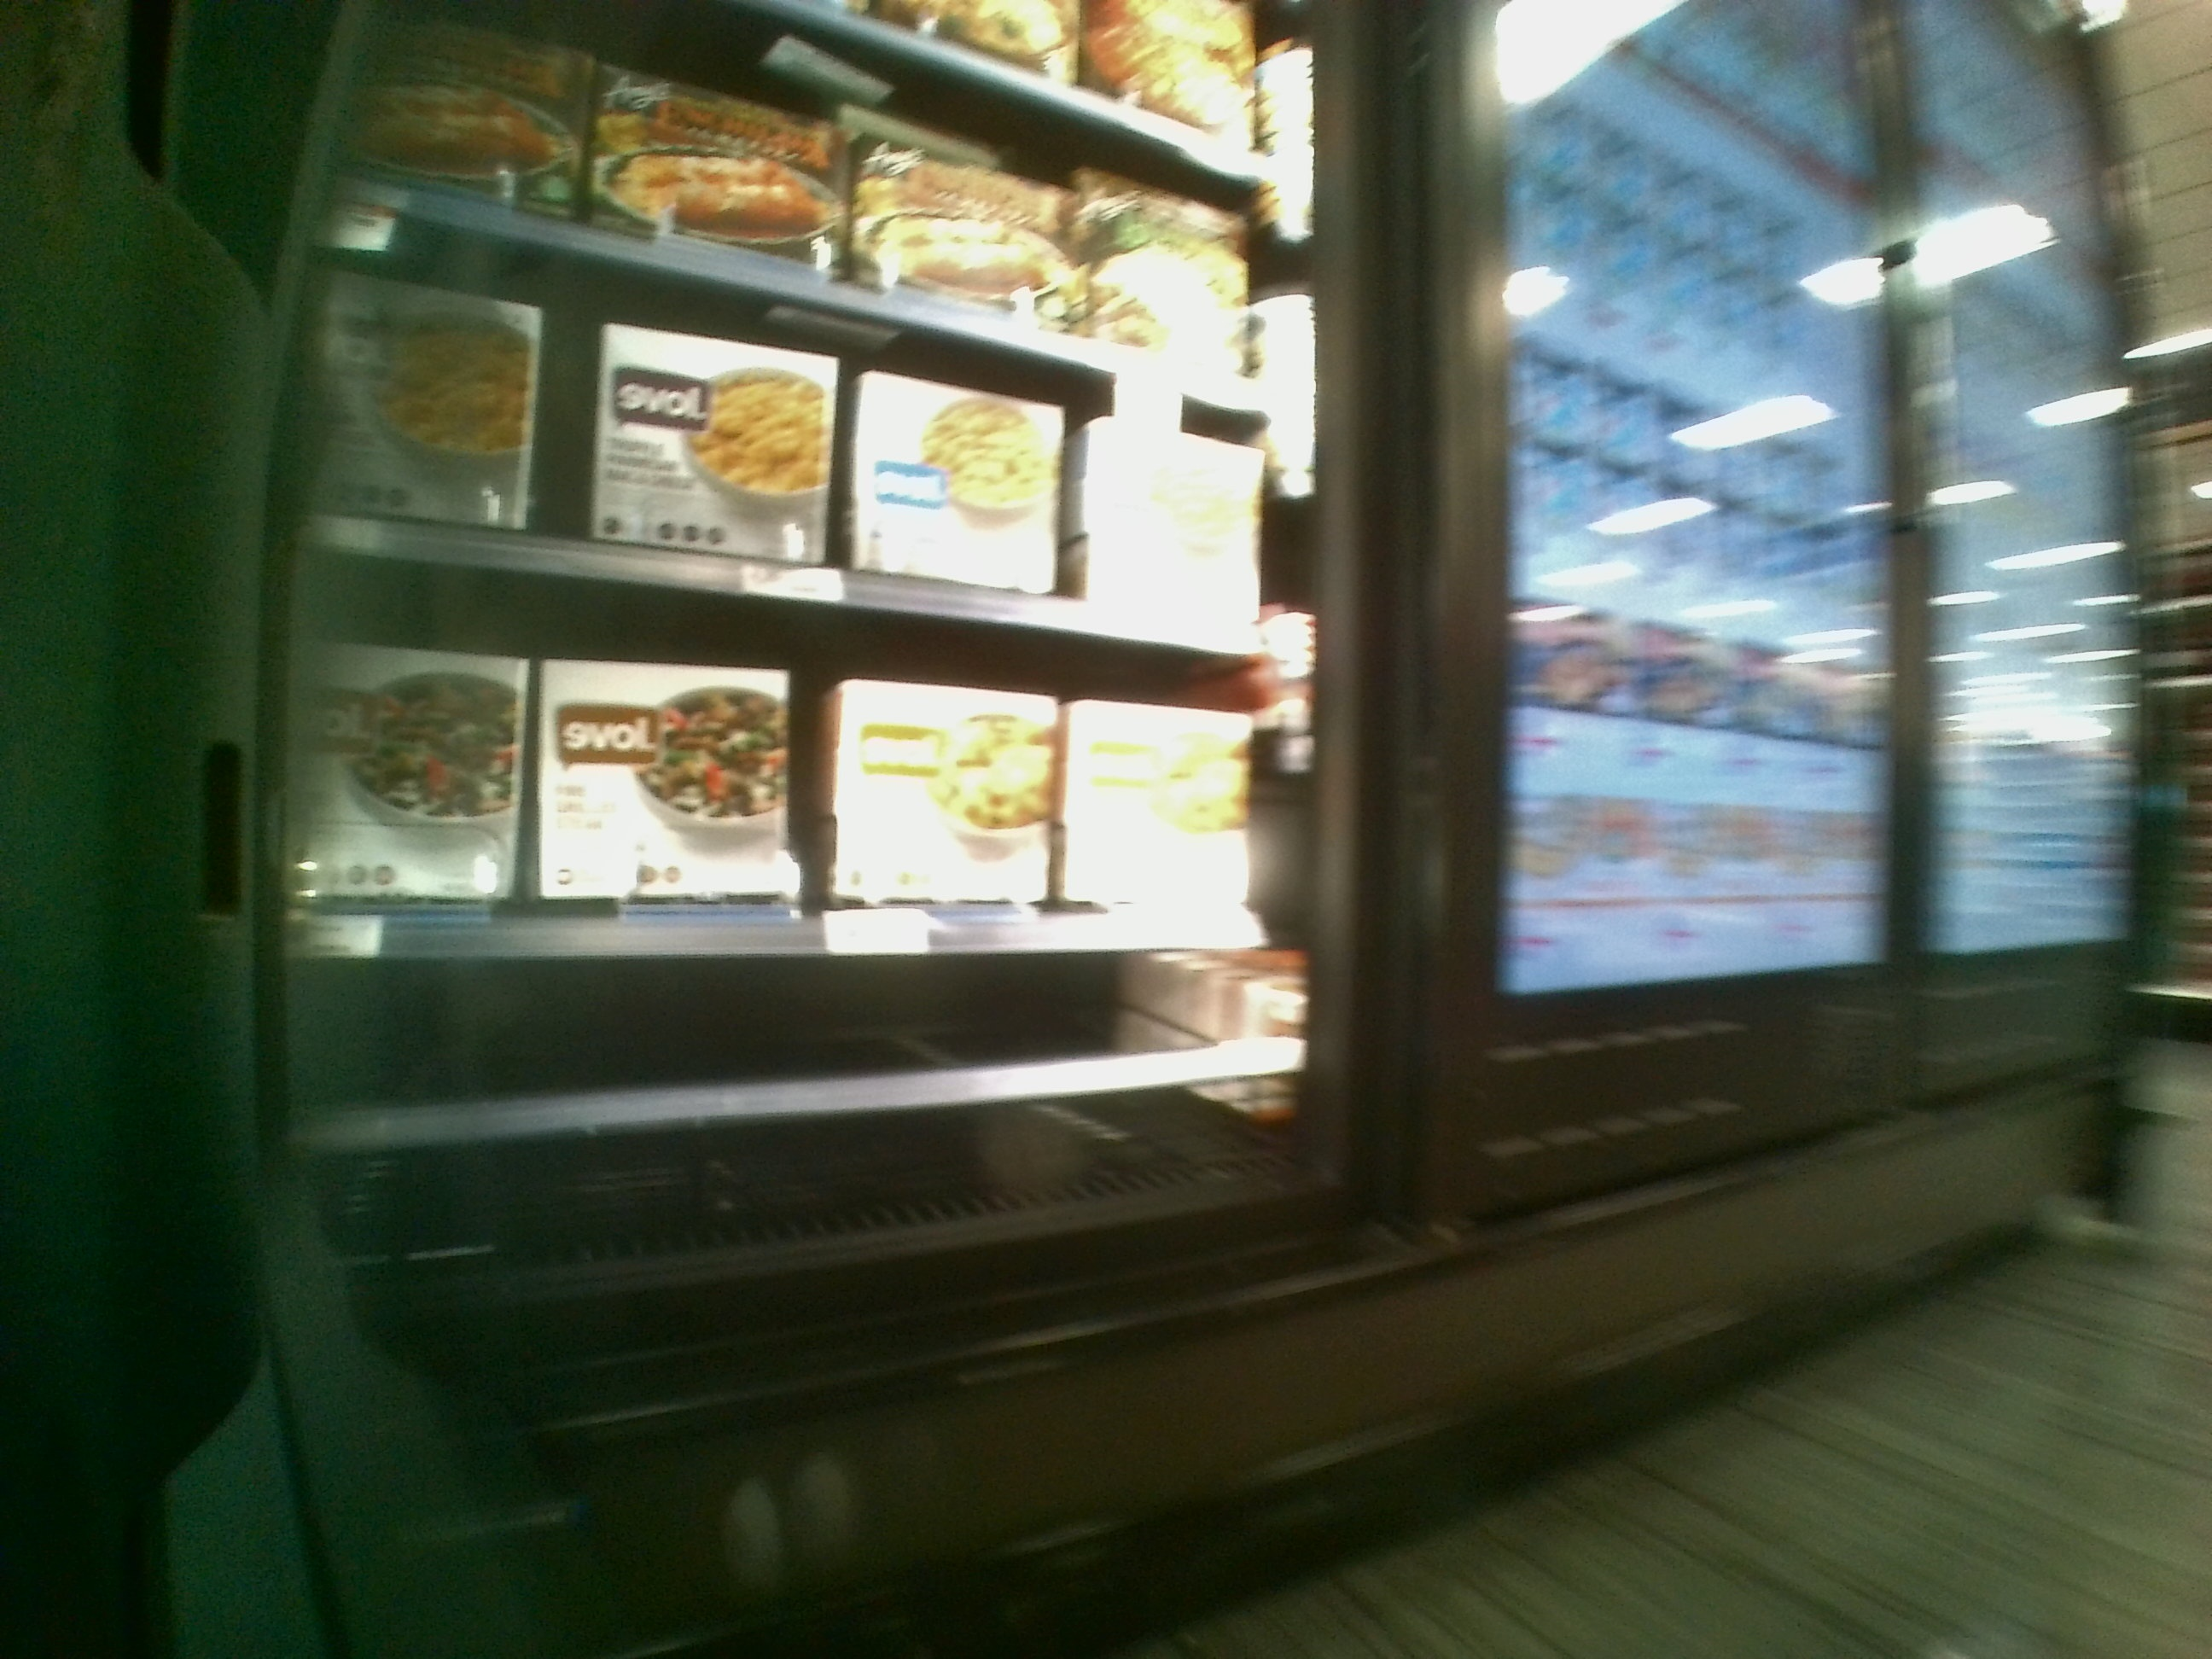shelf: (308, 308, 1305, 634), (308, 636, 1292, 948), (320, 948, 1282, 1260)
